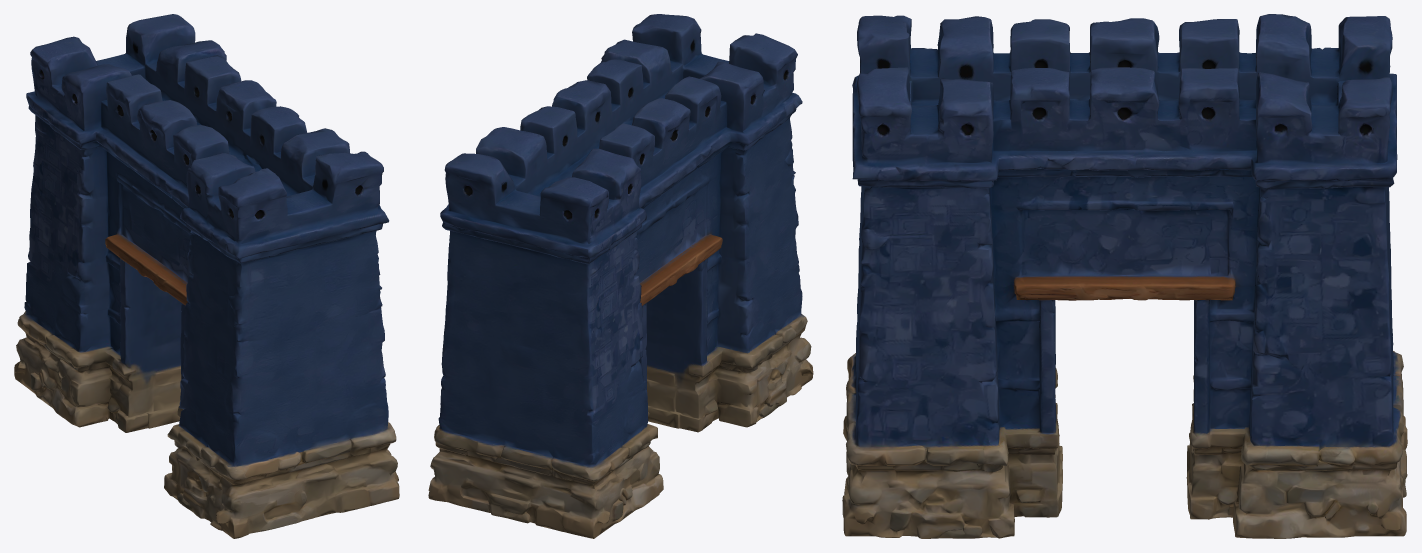
Rendered from gate-a.glb.
3 views of the same model, side by side, from view 1: azimuth 30°, elevation 25°; view 2: azimuth 150°, elevation 25°; view 3: azimuth 270°, elevation 25° (orthographic). The views are drawn at different scales.
Parts seen in each view (by area): view 1: tripo_node_31dd6975-a14c-4734-9047-9e0cfd4e7bc9; view 2: tripo_node_31dd6975-a14c-4734-9047-9e0cfd4e7bc9; view 3: tripo_node_31dd6975-a14c-4734-9047-9e0cfd4e7bc9.
Part boxes in pixels (x1,y1,x2,y2): tripo_node_31dd6975-a14c-4734-9047-9e0cfd4e7bc9: (14, 14, 399, 538); tripo_node_31dd6975-a14c-4734-9047-9e0cfd4e7bc9: (428, 14, 813, 538); tripo_node_31dd6975-a14c-4734-9047-9e0cfd4e7bc9: (842, 14, 1407, 538).
Size of the model in its own units: 0.4716 by 0.8463 by 1.
Materials: 1 (1 with a texture image).
